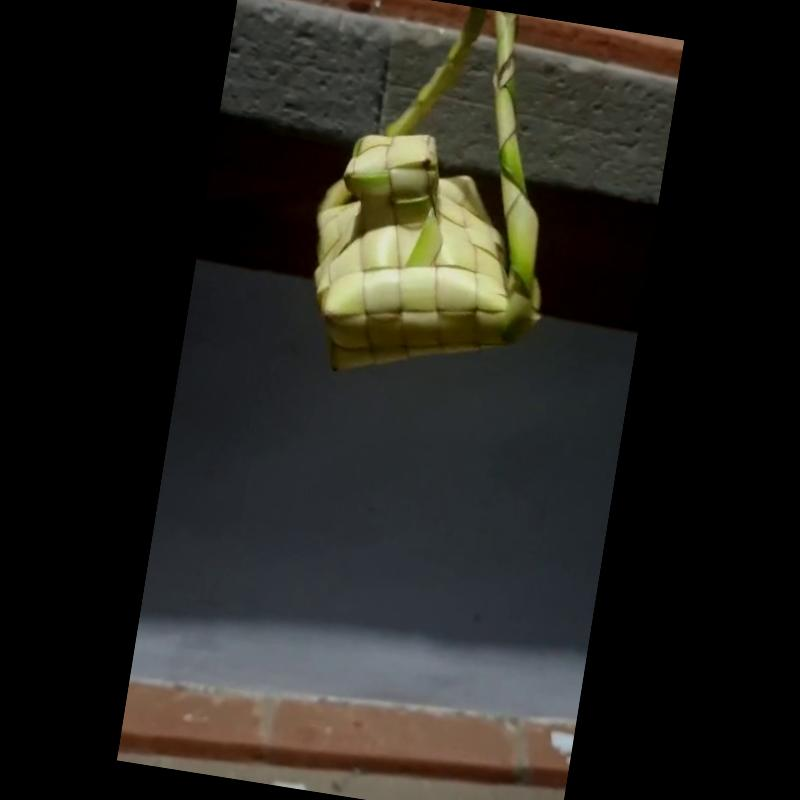Tipat Gong: (315, 6, 541, 368)
